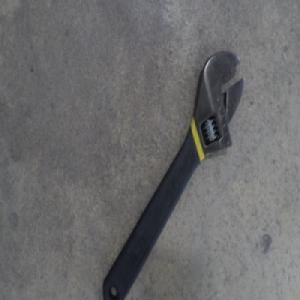AdjustableWrench: (102, 54, 244, 298)
